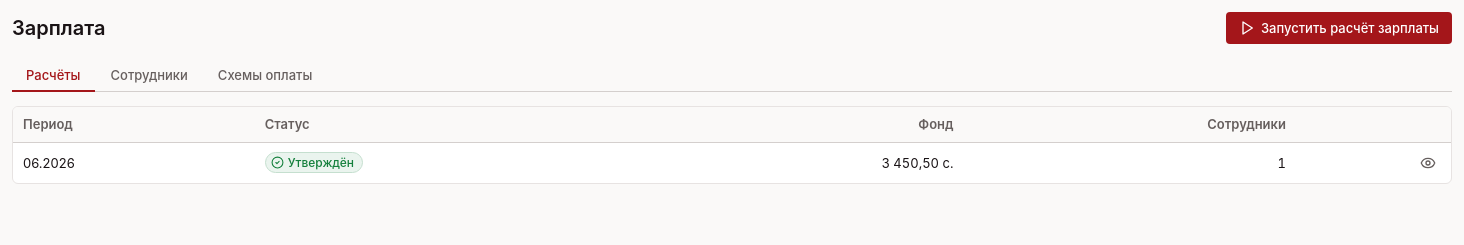
PayrollPage › для утверждённого расчёта кнопки Утвердить нет
The image size is (1464, 245).
Click the button named "Просмотр".
click(1428, 163)  # box 1415,150 -> 1441,176
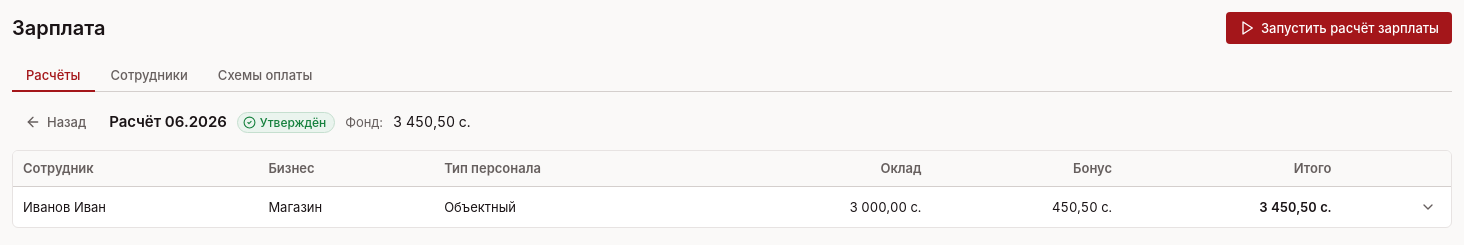
Now the text "Иванов Иван" is shown, box 13,187 -> 258,227
